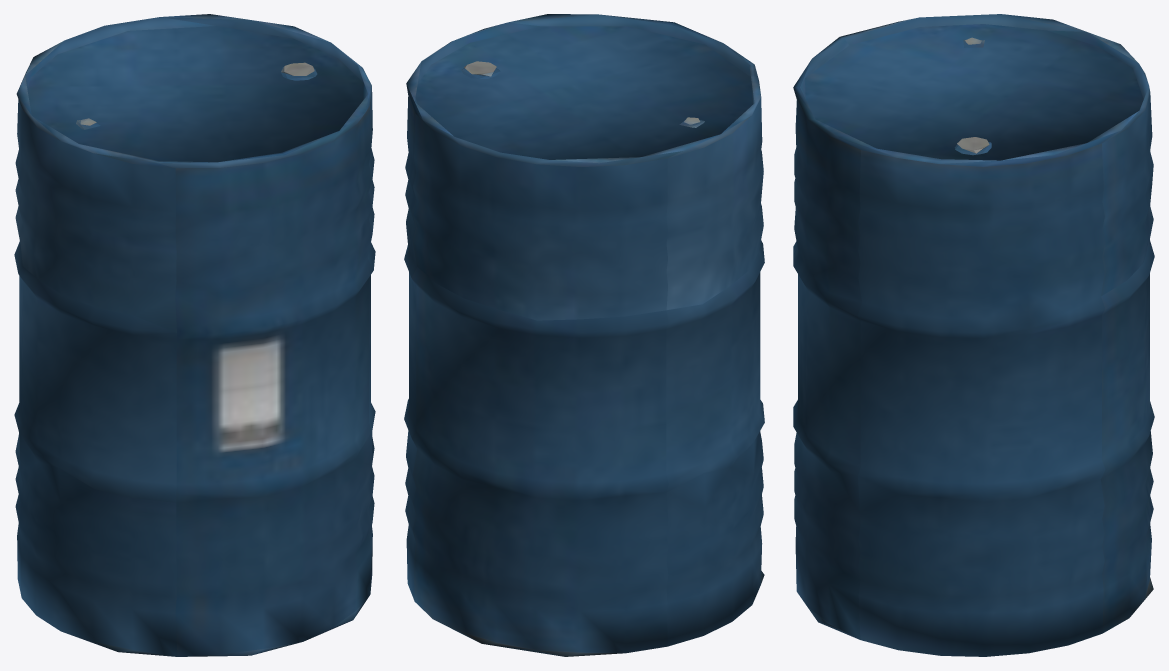
The model's file is barrel.glb.
The picture shows the model from 3 angles, left to right: view 1: azimuth 30°, elevation 25°; view 2: azimuth 150°, elevation 25°; view 3: azimuth 270°, elevation 25°; orthographic projection.
Parts seen in each view (by area): view 1: Metal barrel; view 2: Metal barrel; view 3: Metal barrel.
Boxes of the visible parts, box(x1,y1,x2,y2) form: Metal barrel: box(14, 14, 375, 656); Metal barrel: box(404, 14, 764, 656); Metal barrel: box(793, 14, 1154, 656).
Size of the model in its own units: 0.5871 by 0.8857 by 0.5858.
Materials: 1 (1 with a texture image).
